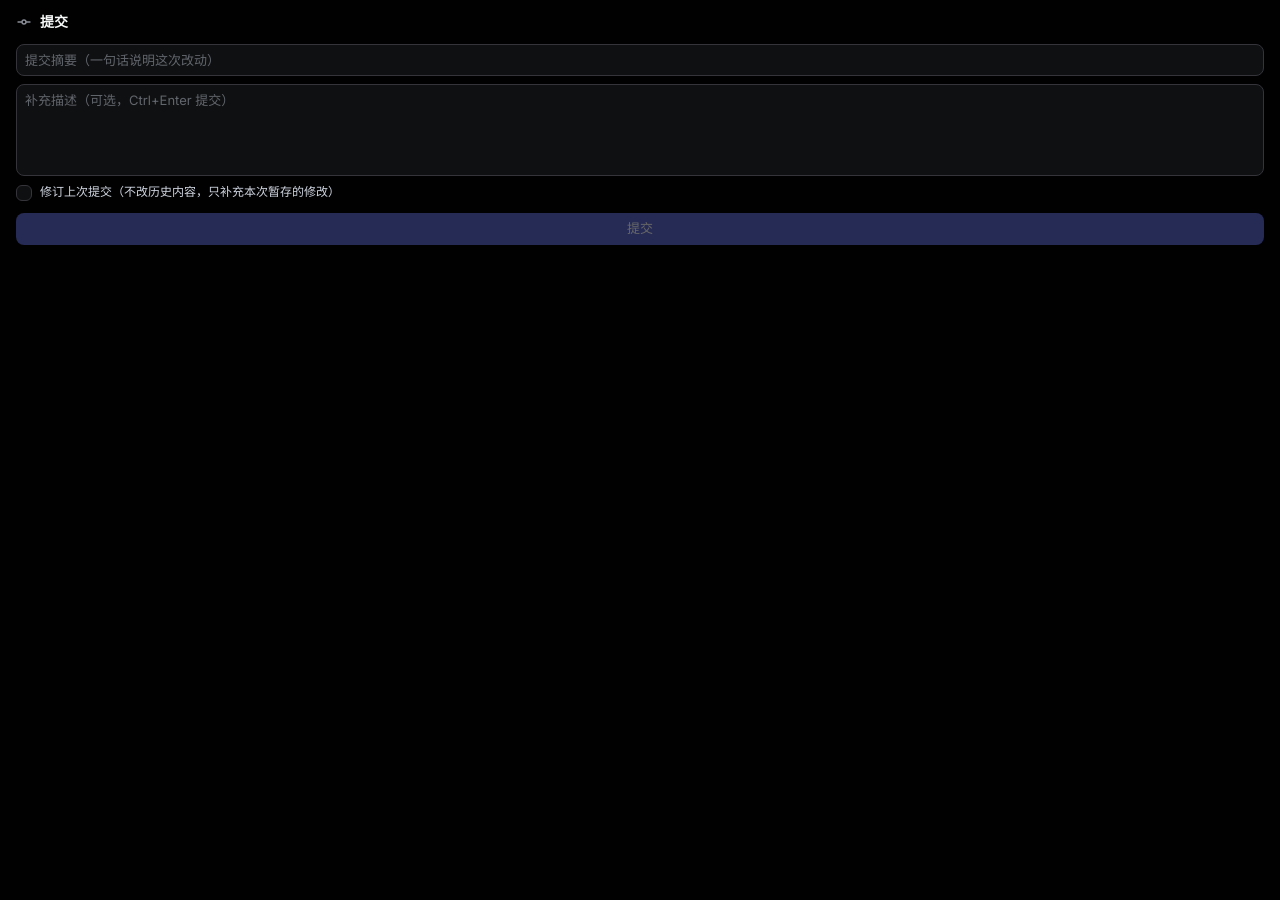
Test: CommitBox › toasts a humanized error for non-guard failures
Step 1. Type "x" into the field with test id "commit-subject" → (640, 60), box x1=16 y1=44 x2=1264 y2=76
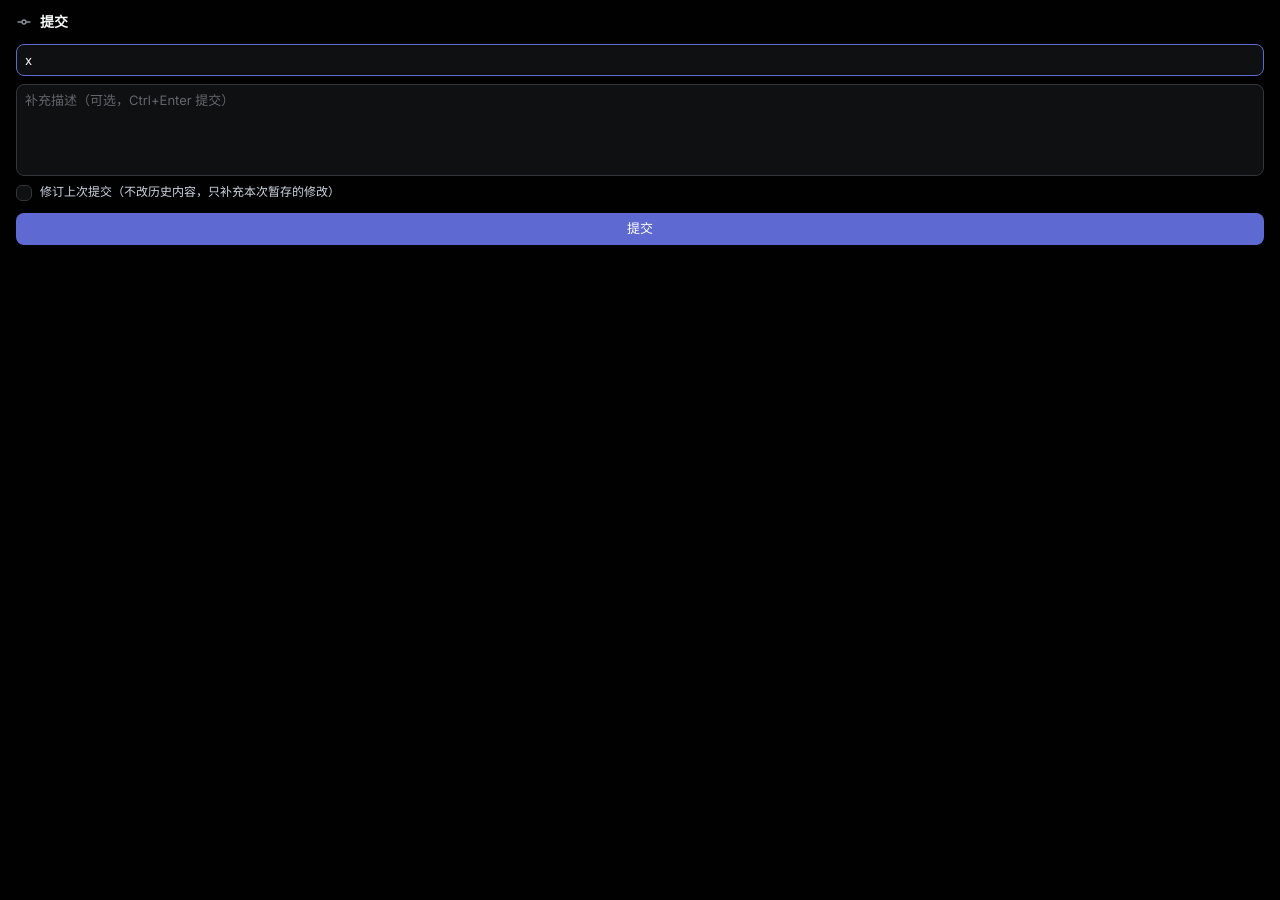
Step 2. Click the button with test id "commit-submit" → (640, 229), box x1=16 y1=213 x2=1264 y2=245
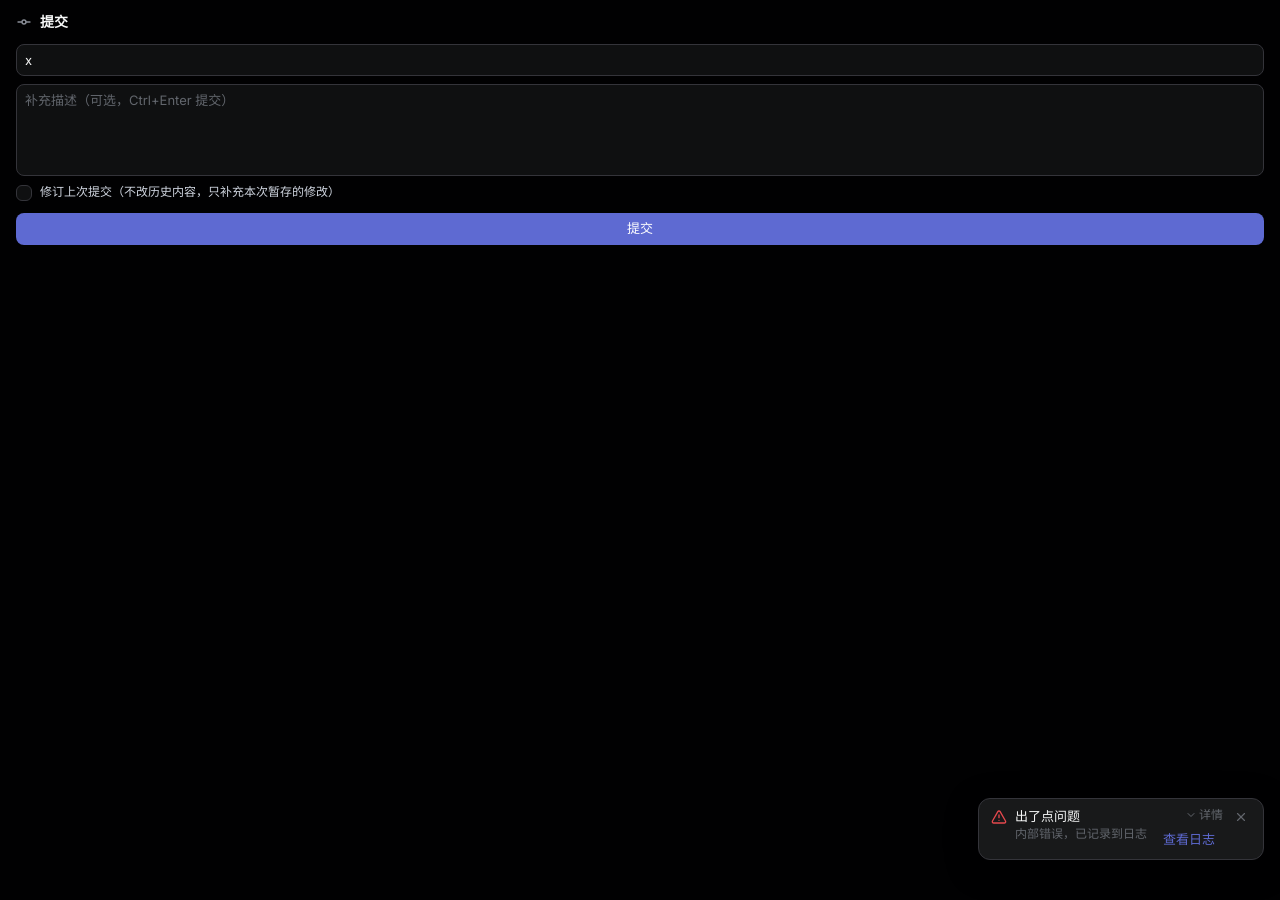
Check: the text "出了点问题" is shown, box x1=1015 y1=808 x2=1080 y2=824
